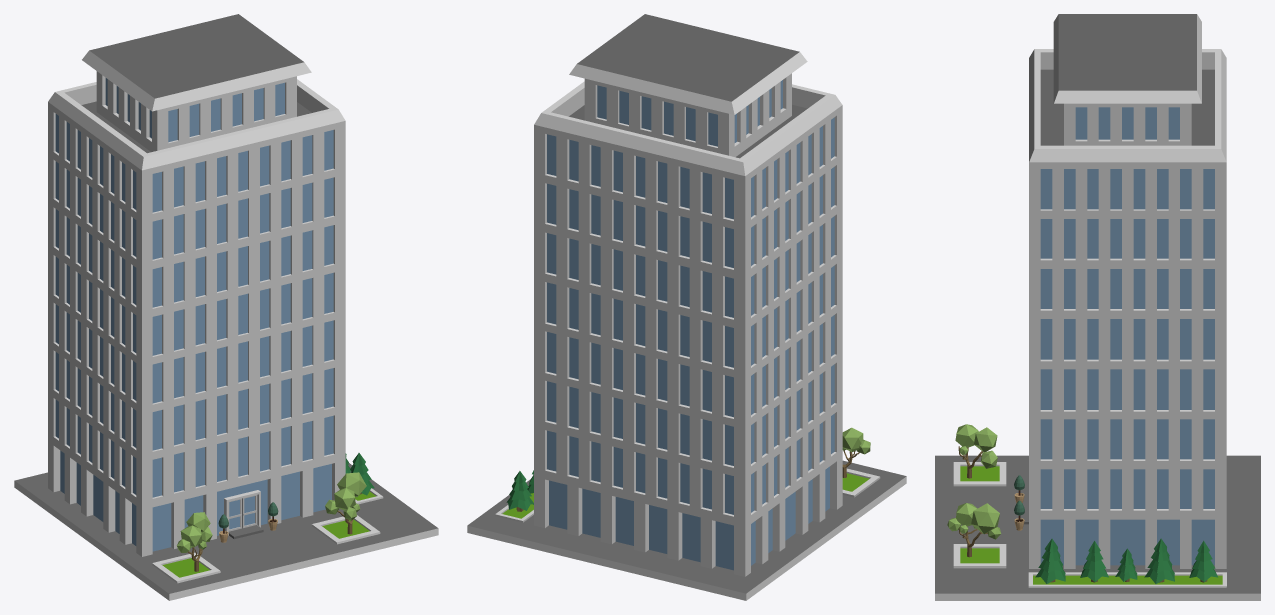
File: Office Building Lvl 1.gltf
The picture shows the model from 3 angles, left to right: view 1: azimuth 30°, elevation 25°; view 2: azimuth 150°, elevation 25°; view 3: azimuth 270°, elevation 25°; orthographic projection. The views are drawn at different scales.
Visible parts, largest first — view 1: office building lvl 1, BAZA 2x2.004, zelena povrsina, ulazna vrata fabrike.002, Tree 3, Tree 4; view 2: office building lvl 1, BAZA 2x2.004, zelena povrsina, jelke, Tree 4; view 3: office building lvl 1, BAZA 2x2.004, zelena povrsina, jelke, Tree 3, Tree 4, zardinjera.002.
Boxes of the visible parts, x1,y1,x2,y2 form: office building lvl 1: (48, 14, 345, 556); BAZA 2x2.004: (14, 463, 438, 600); zelena povrsina: (152, 488, 383, 583); ulazna vrata fabrike.002: (224, 490, 263, 539); Tree 3: (325, 472, 366, 534); Tree 4: (177, 512, 212, 571); office building lvl 1: (534, 14, 842, 576); BAZA 2x2.004: (467, 460, 906, 600); zelena povrsina: (495, 468, 880, 522); jelke: (506, 470, 533, 511); Tree 4: (842, 427, 870, 477); office building lvl 1: (1029, 14, 1226, 568); BAZA 2x2.004: (935, 455, 1260, 600); zelena povrsina: (953, 462, 1226, 587); jelke: (1035, 538, 1218, 583); Tree 3: (947, 503, 1001, 557); Tree 4: (955, 424, 997, 478); zardinjera.002: (1014, 475, 1024, 530).
Bounding box in the file's own units: 4.02 × 6.39 × 4.
